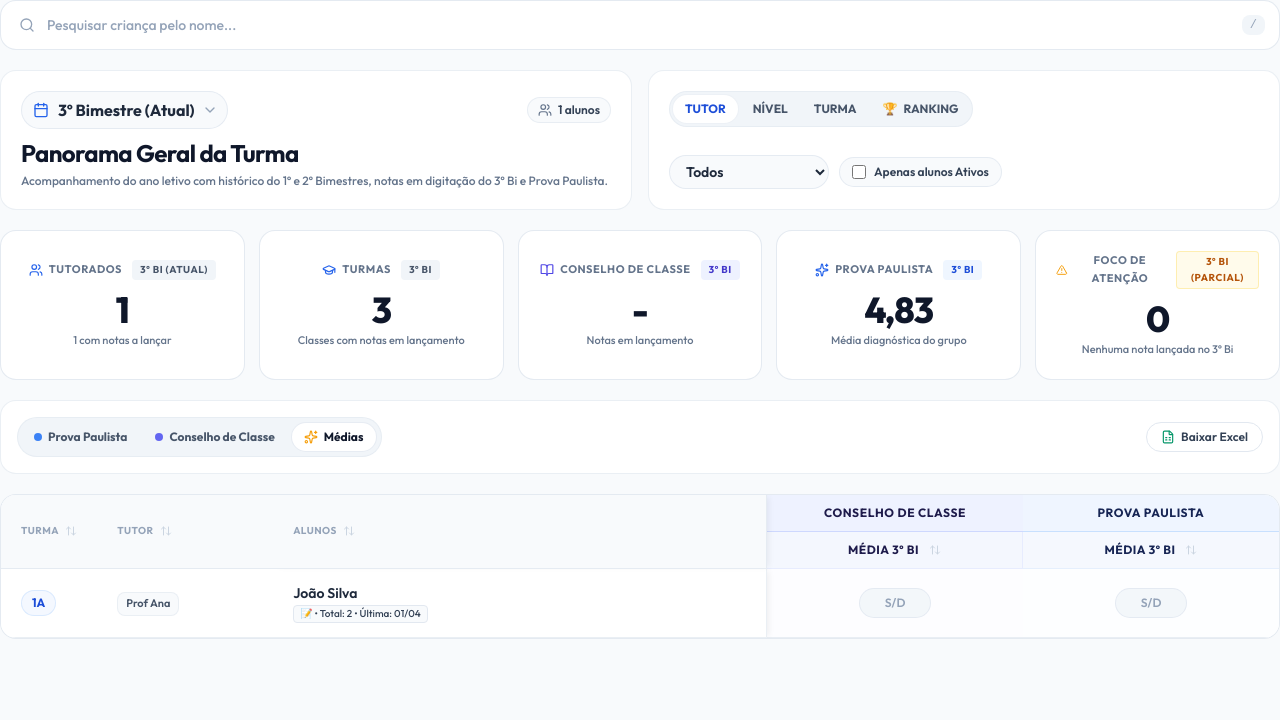
it: Dashboard — filtros laterais › atualiza os cards de resumo dinamicamente ao alternar o seletor de bimestre
Note: Alterna para 1º Bimestre
Select "1º Bimestre" in the dropdown named "selecionar bimestre" at (124, 110), box [21,91,228,129]
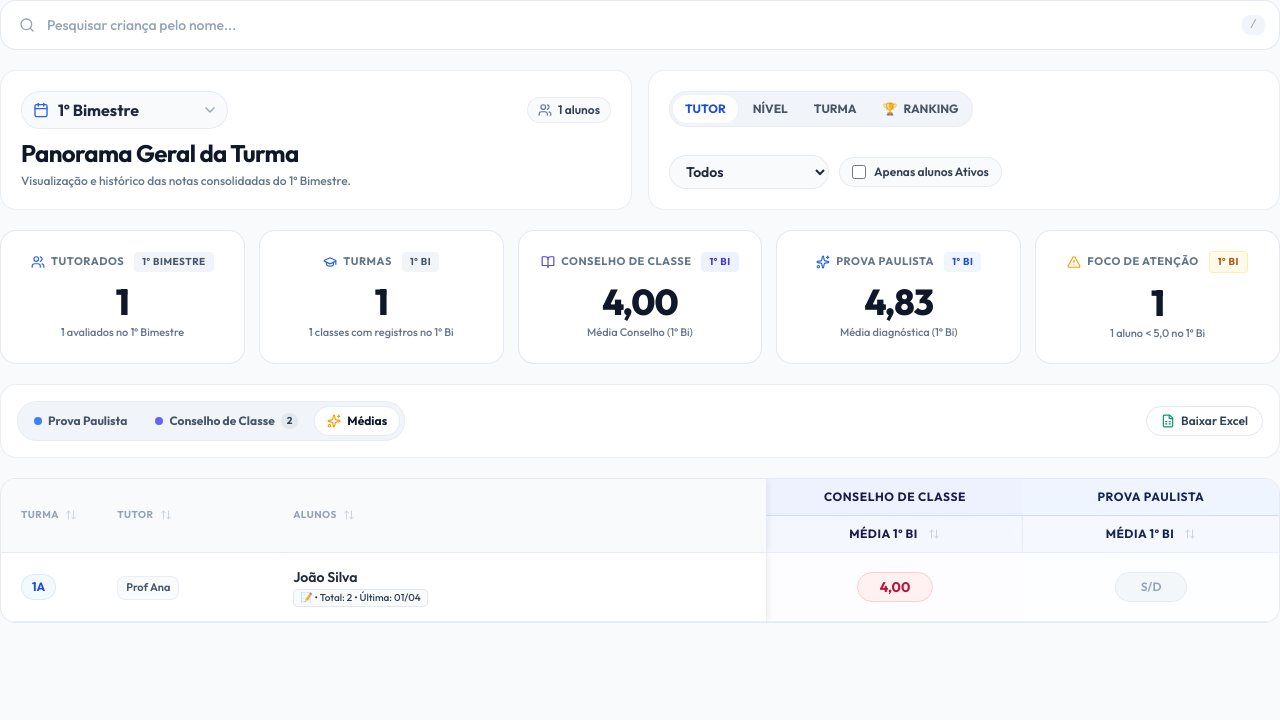
Check: the text "1 aluno < 5,0 no 1º Bi" is shown, box [1110,325,1205,343]
Note: Alterna para 2º Bimestre
Select "2º Bimestre" in the dropdown named "selecionar bimestre" at (124, 110), box [21,91,228,129]
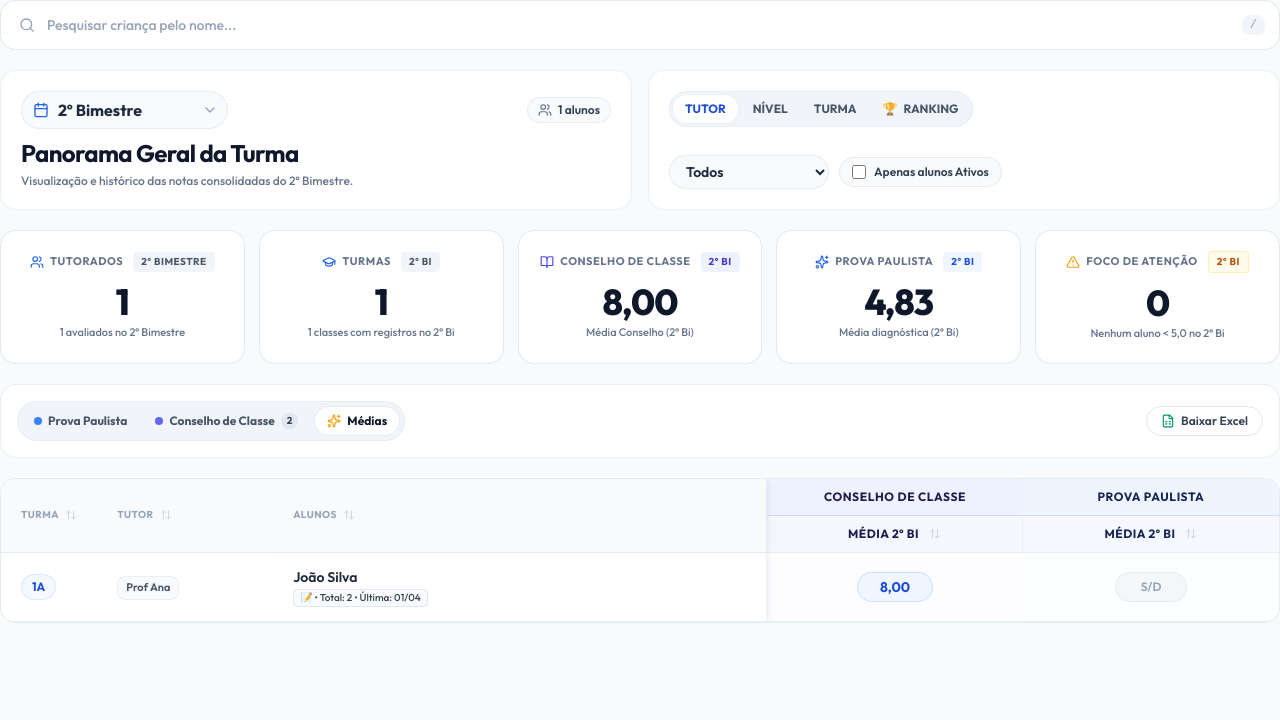
Check: the text "Nenhum aluno < 5,0 no 2º Bi" is shown, box [1090,325,1225,343]
